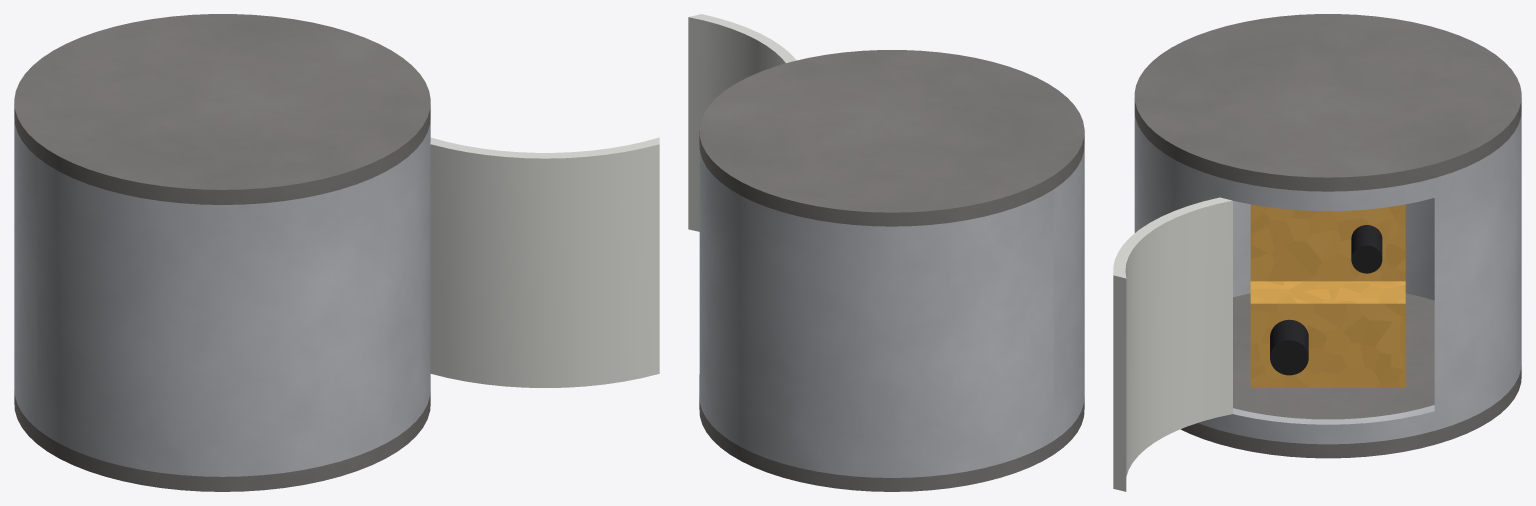
The model's file is sci03_science_bay_s_door_open.glb.
3 renders of one model, left to right at view 1: azimuth 30°, elevation 25°; view 2: azimuth 150°, elevation 25°; view 3: azimuth 270°, elevation 25°, orthographic. The views are drawn at different scales.
Parts seen in each view (by area): view 1: shell, end_rings, door; view 2: shell, end_rings, door; view 3: end_rings, shell, door, instruments, instrument_heads.
Boxes of the visible parts, x1,y1,x2,y2 form: shell: (14,118,430,476); end_rings: (14,14,430,491); door: (430,137,659,387); shell: (699,144,1084,477); end_rings: (699,50,1084,491); door: (688,14,796,231); end_rings: (1134,14,1521,458); shell: (1134,112,1521,444); door: (1113,197,1232,491); instruments: (1250,204,1405,387); instrument_heads: (1270,225,1382,375).
Size of the model in its own units: 1.76 by 1 by 1.32.
5 materials, 3 textured.
